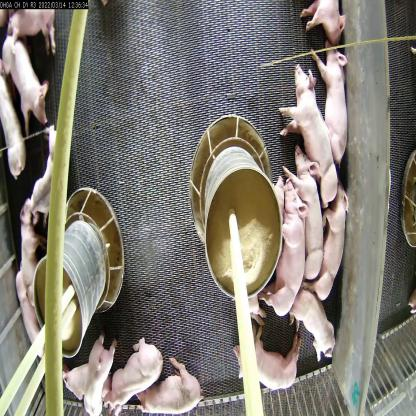Pig: (276, 56, 342, 198), (275, 140, 324, 280), (312, 30, 355, 166), (304, 179, 351, 301), (0, 27, 55, 124), (266, 176, 300, 319), (228, 340, 302, 392), (110, 335, 162, 407), (28, 128, 67, 211), (288, 284, 334, 354), (0, 70, 26, 192), (143, 365, 196, 415), (12, 202, 44, 277), (83, 337, 108, 408)
